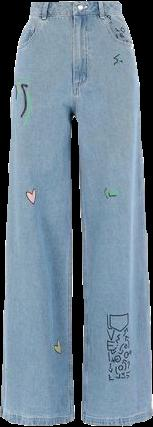Hemline: (0, 413, 75, 426), (80, 414, 152, 426)
Pantleg: (72, 1, 151, 425), (1, 1, 74, 425)
Waistline: (28, 10, 122, 19), (29, 0, 119, 7)
